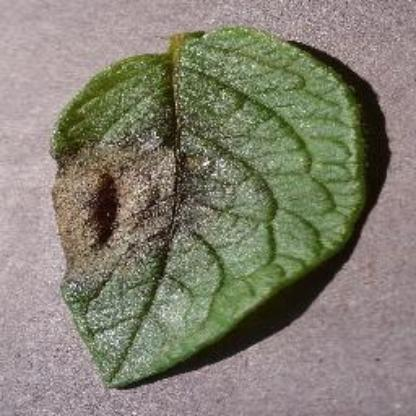Late-Blight: (32, 22, 378, 388)
